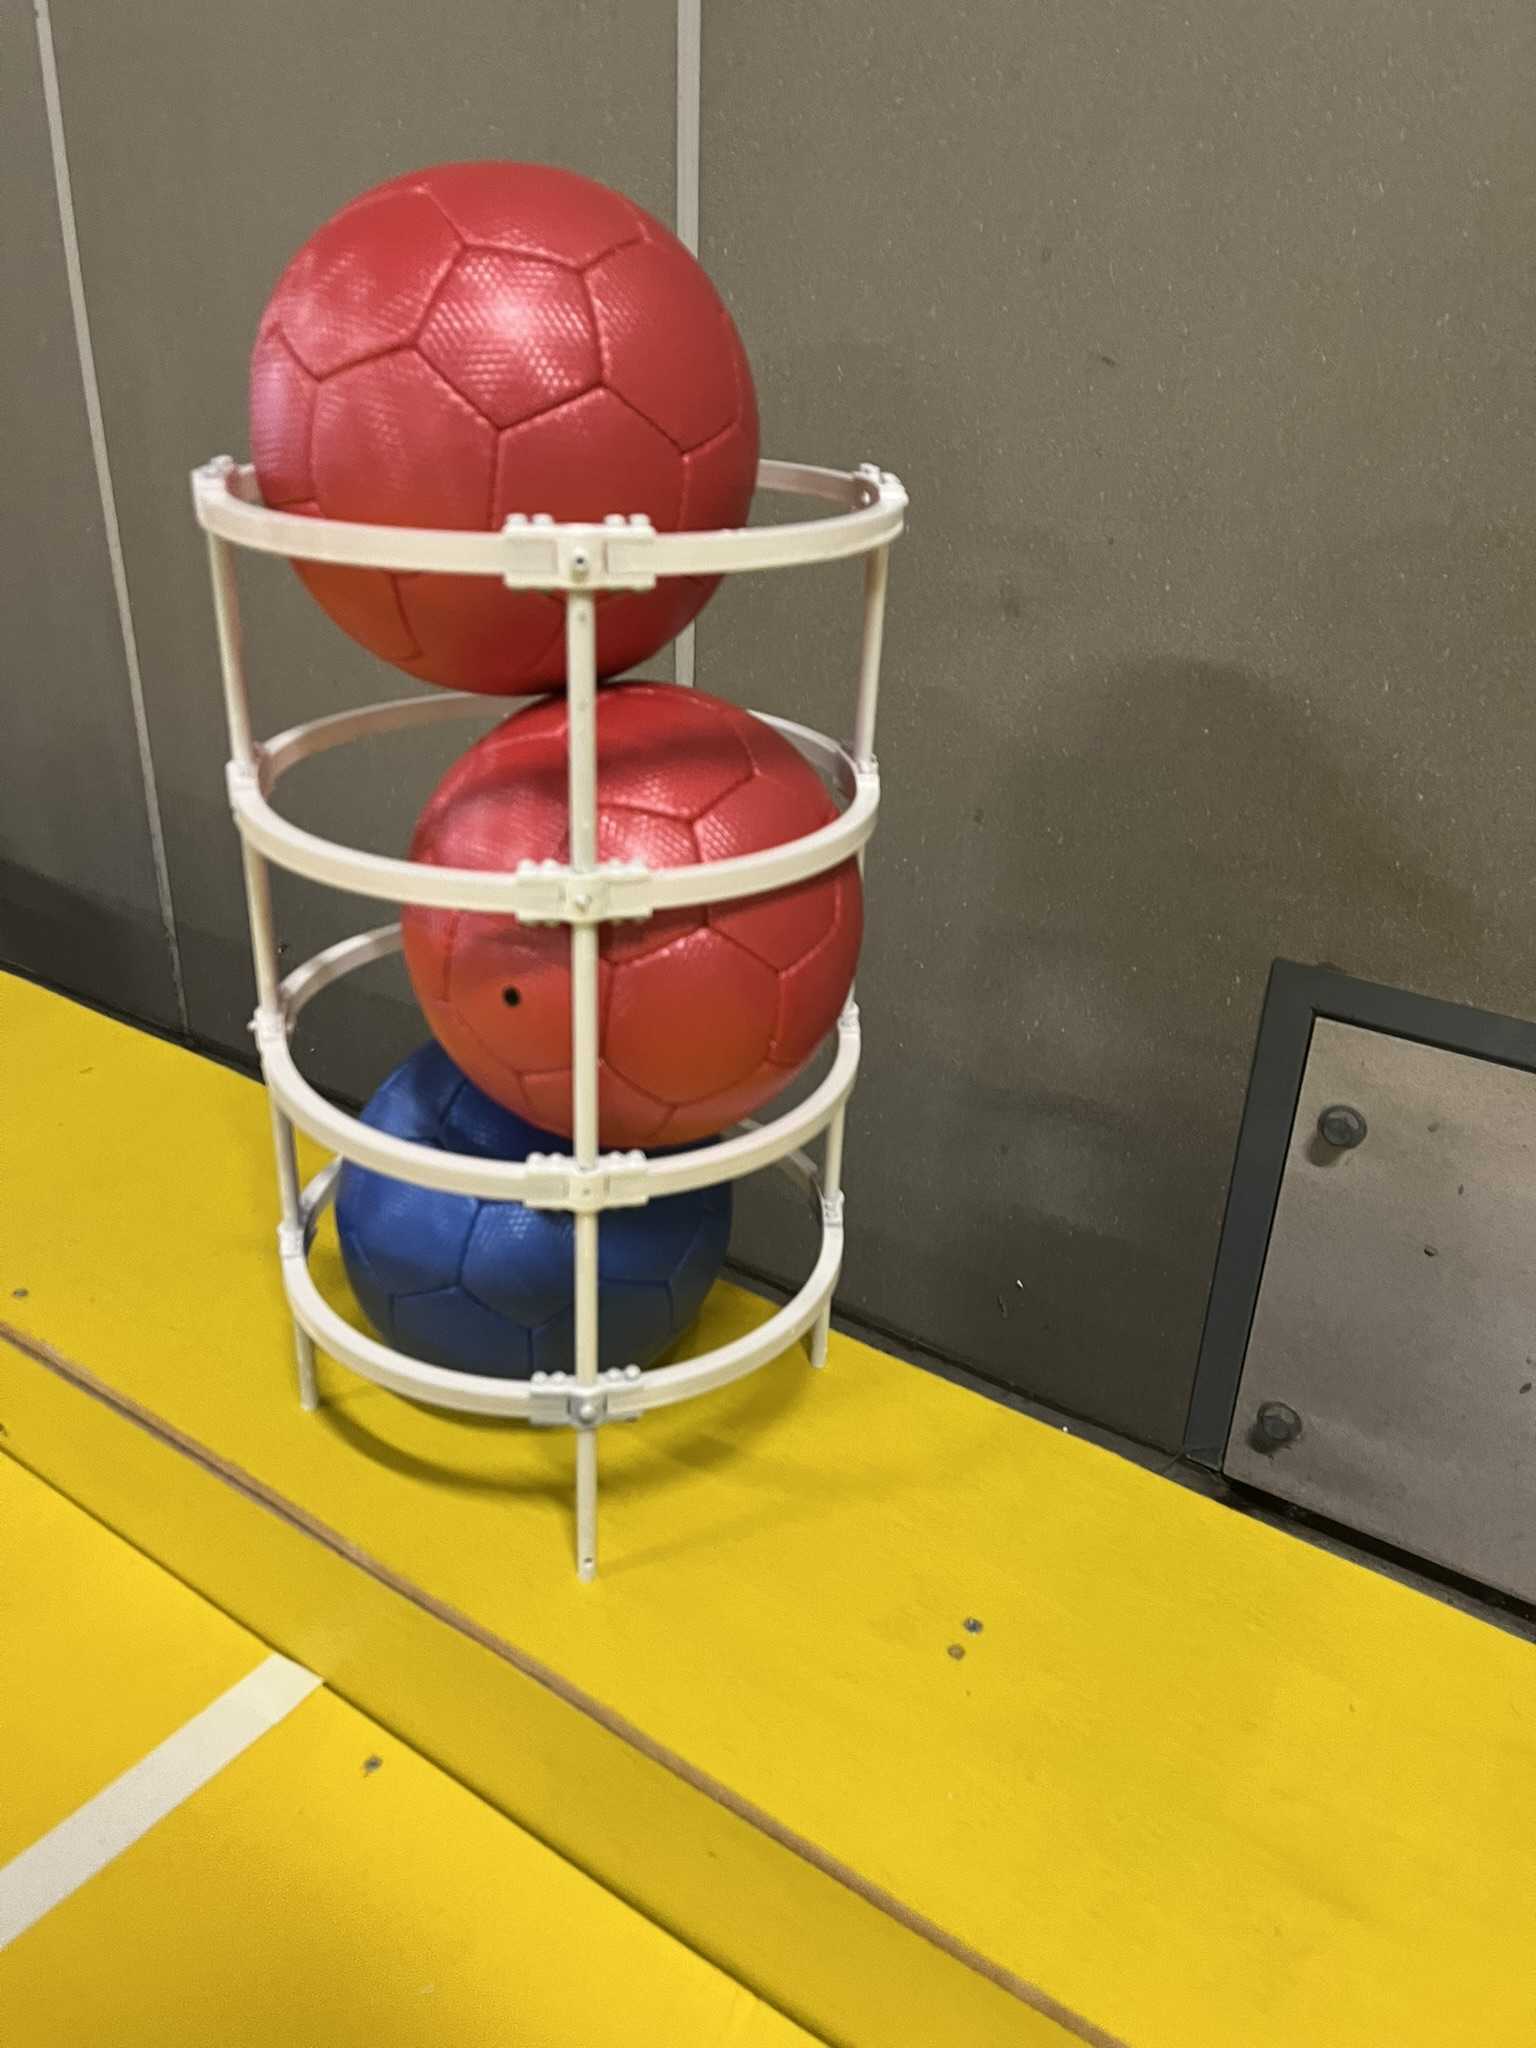blue: (287, 1005, 734, 1413)
